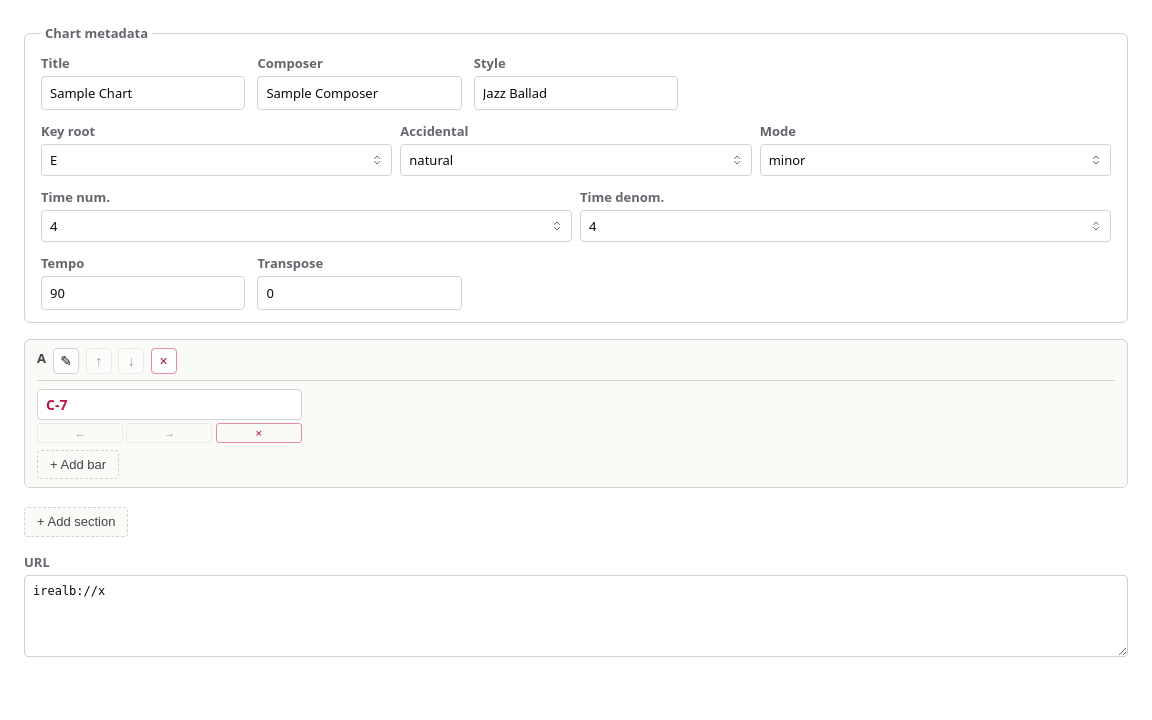
Test: <IrealBarGrid> › URL textarea commit JSON.parse failure surfaces with "Invalid AST JSON" prefix
The width and height of the screenshot is (1152, 720).
Replace the text in the text box named "iReal Pro URL" with "irealb://garbage": (576, 616) [24,574,1128,656]
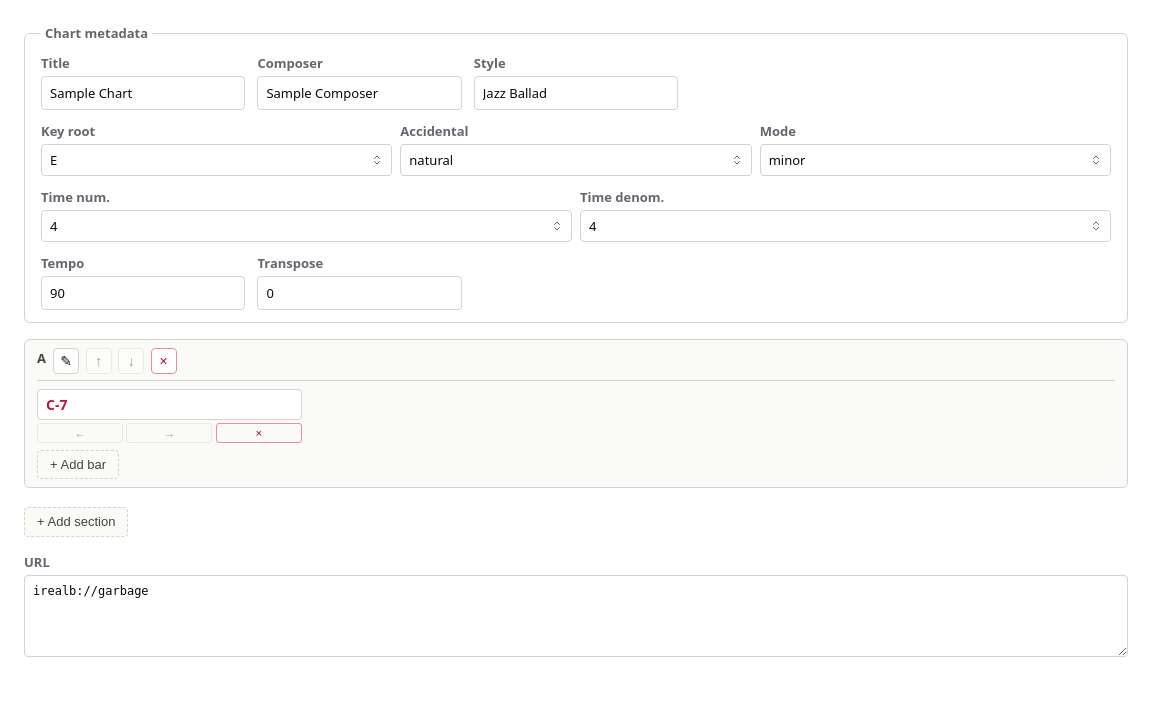
Leave the text box named "iReal Pro URL", box [24,574,1128,656]
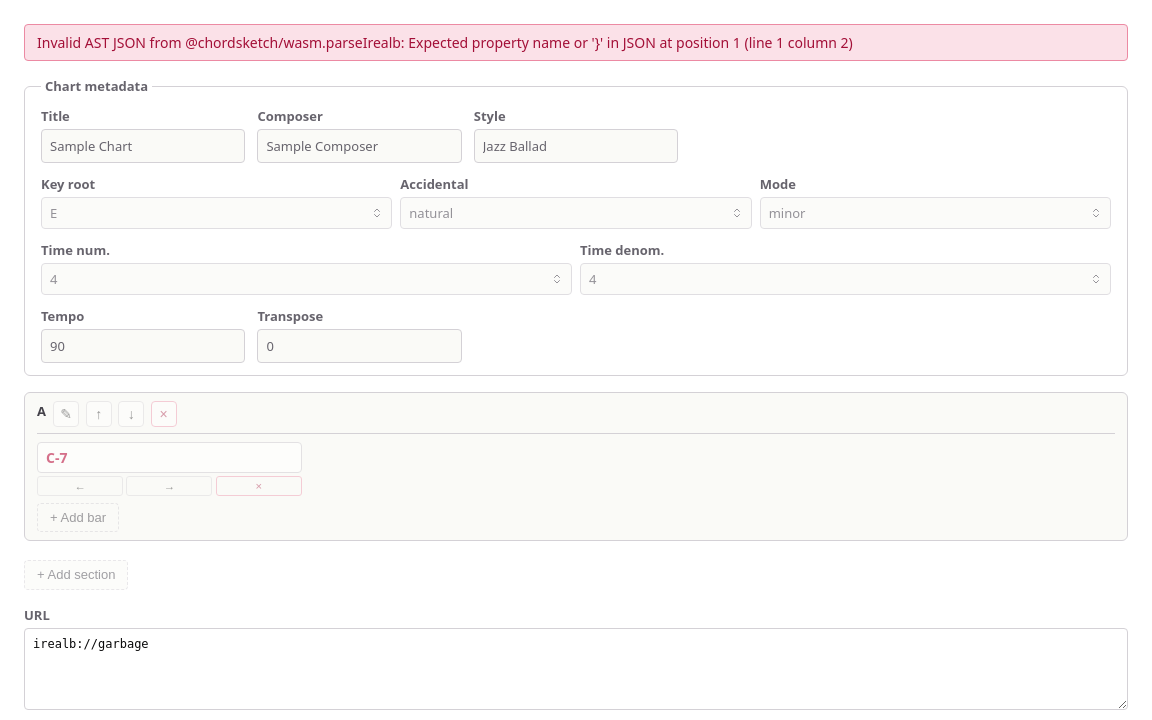
Check: the message shows "Invalid AST JSON from @chordsketch/wasm.parseIrealb:", box [37,33,853,52]
